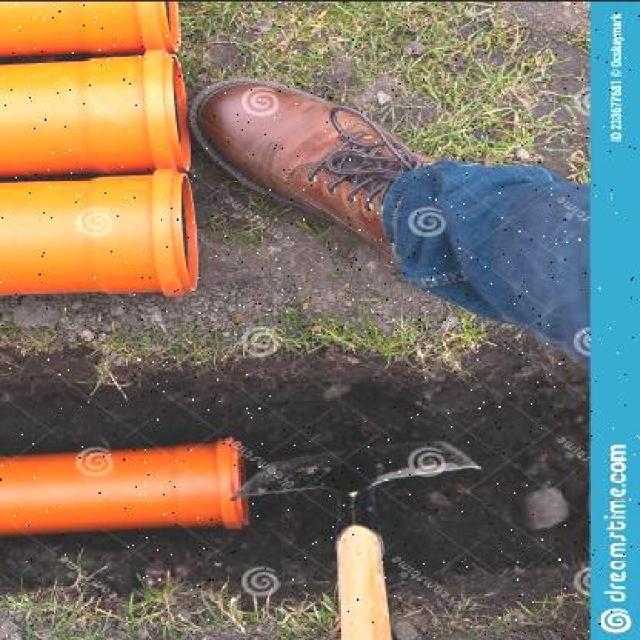shoes: (203, 81, 459, 274)
